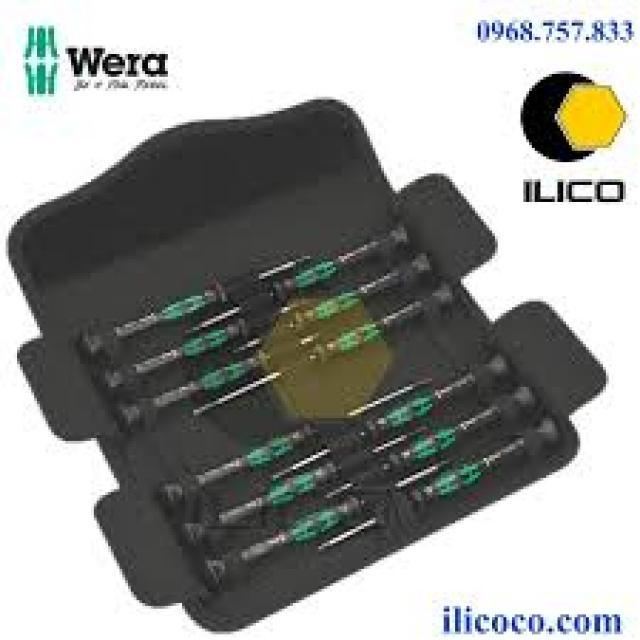screwdriver: (192, 280, 459, 422), (194, 451, 456, 593), (159, 373, 438, 506), (268, 350, 510, 483), (178, 420, 431, 544), (185, 222, 421, 338), (322, 384, 544, 504), (314, 434, 534, 554), (77, 252, 316, 357), (94, 290, 318, 396), (112, 327, 323, 430), (230, 254, 432, 358)
